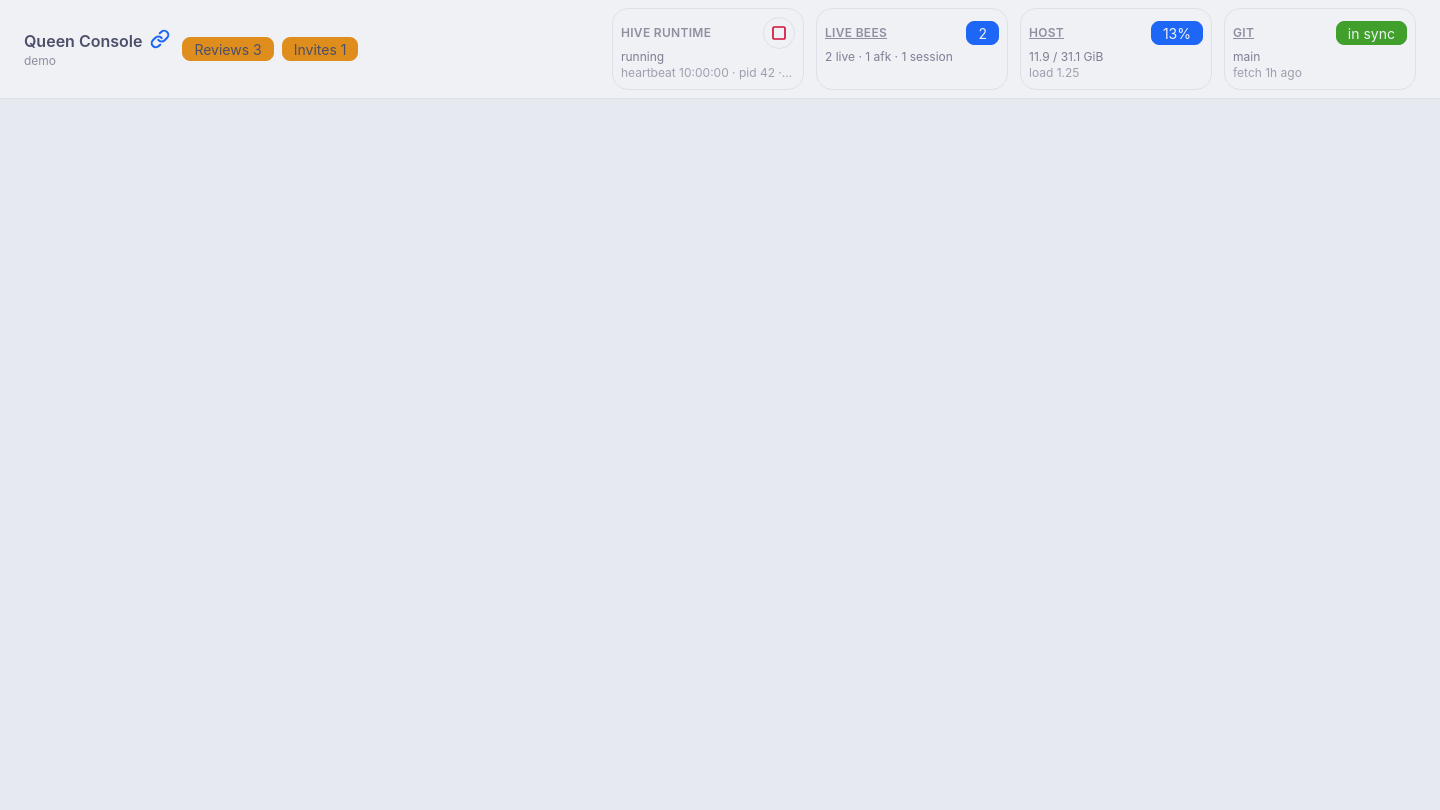
Test case: Header › stops the runtime after confirmation
This screenshot has width=1440, height=810.
Click the button named "Stop hive runtime" at (779, 33), box [763,17,795,49]
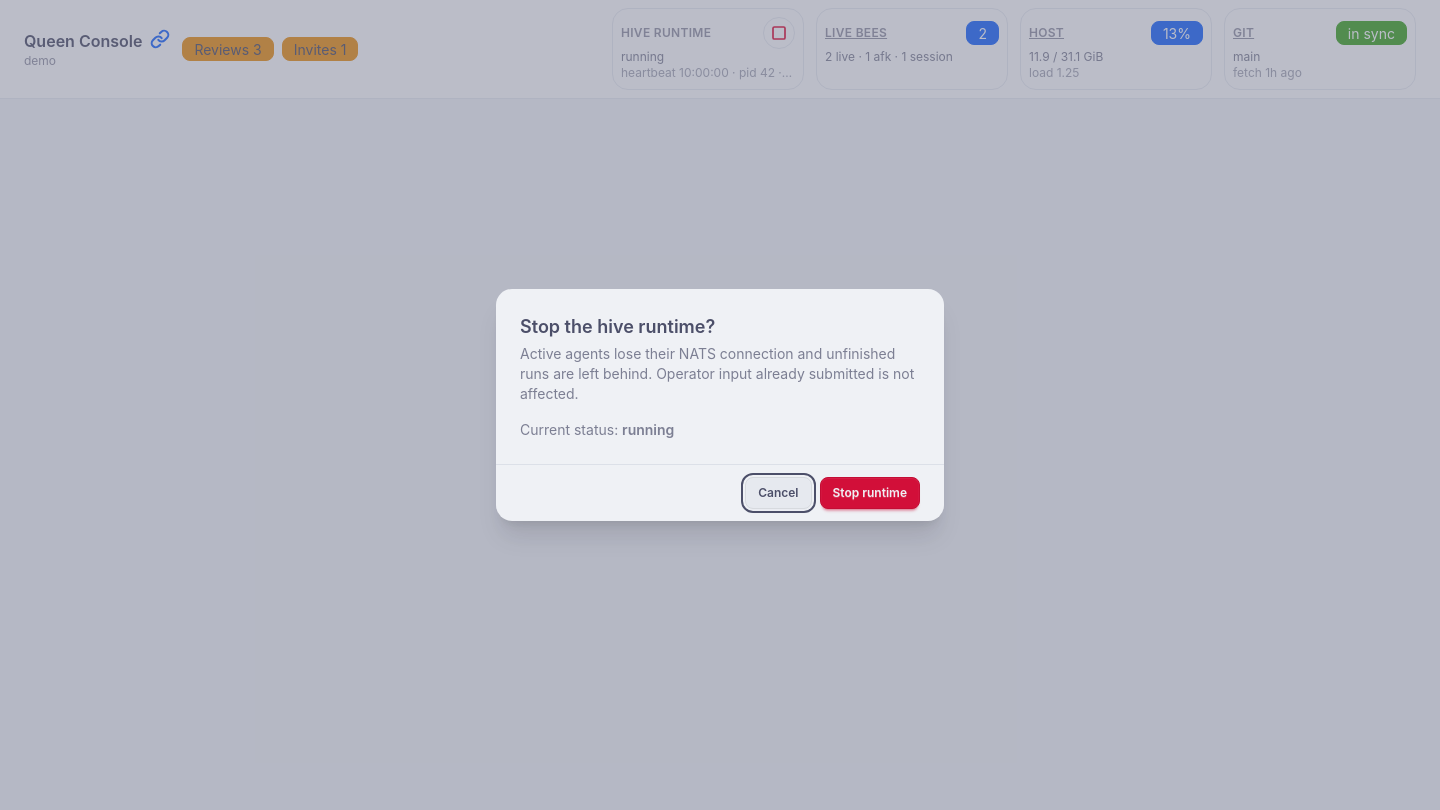
Click the button "Stop runtime" at (870, 493), box [820,477,920,509]
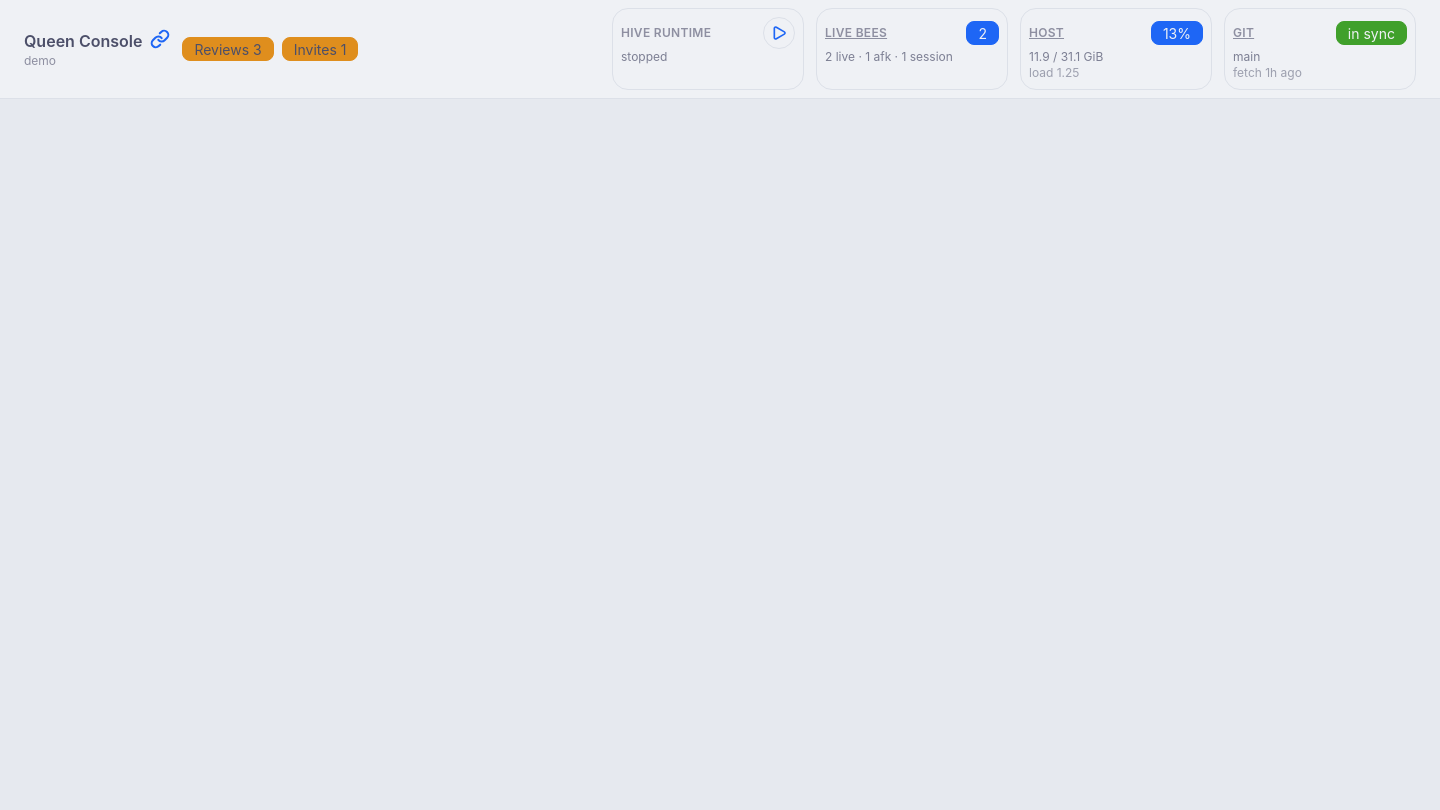
Expected: the text "stopped" is shown, [621,49,667,64]
